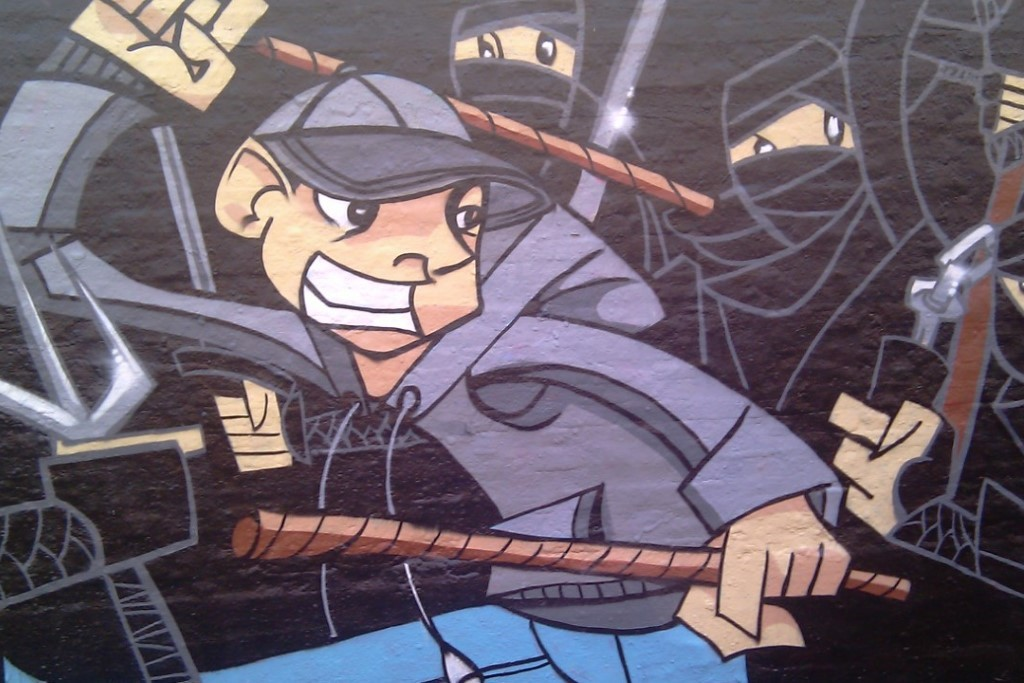baston_e: (266, 25, 691, 216), (264, 509, 883, 599)
baston_v: (214, 496, 291, 577), (682, 191, 725, 231), (883, 568, 920, 611)
